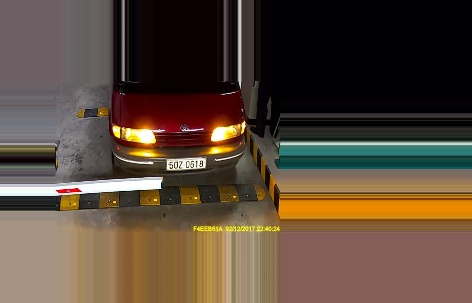plate: (165, 156, 207, 171)
